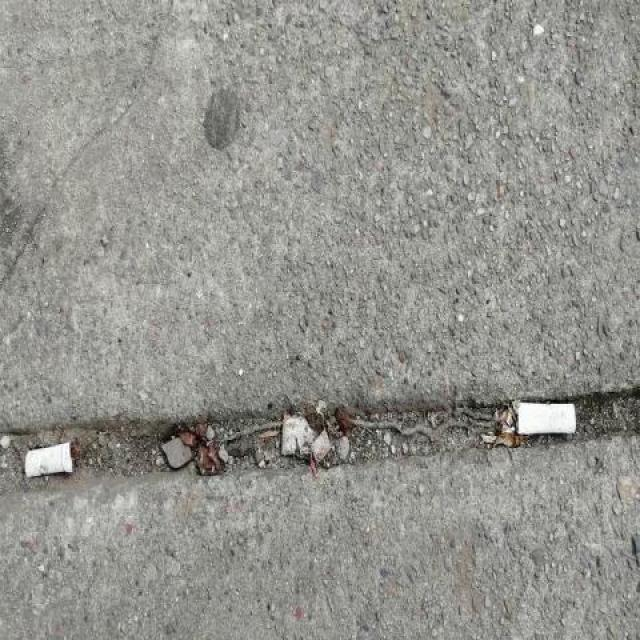non-organic waste: (21, 434, 79, 482), (513, 397, 579, 439)
